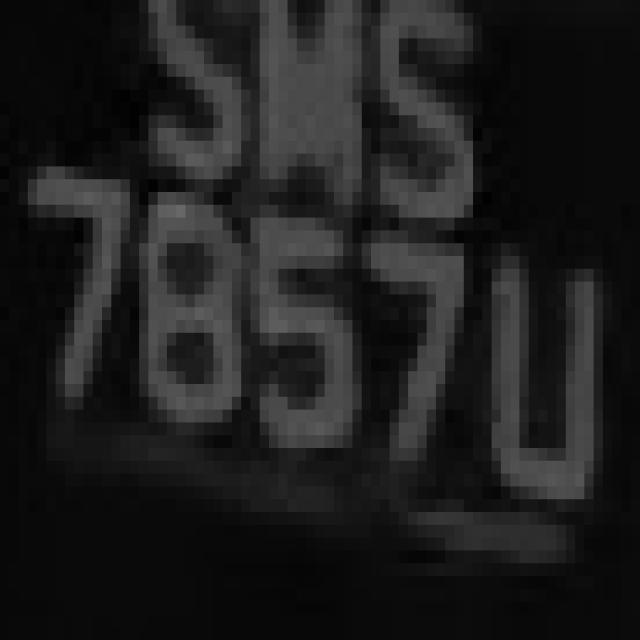5: (241, 179, 353, 474)
7: (352, 230, 464, 512), (18, 179, 130, 448)
8: (130, 179, 269, 448)
S: (371, 38, 501, 244)
U: (492, 218, 622, 512)
